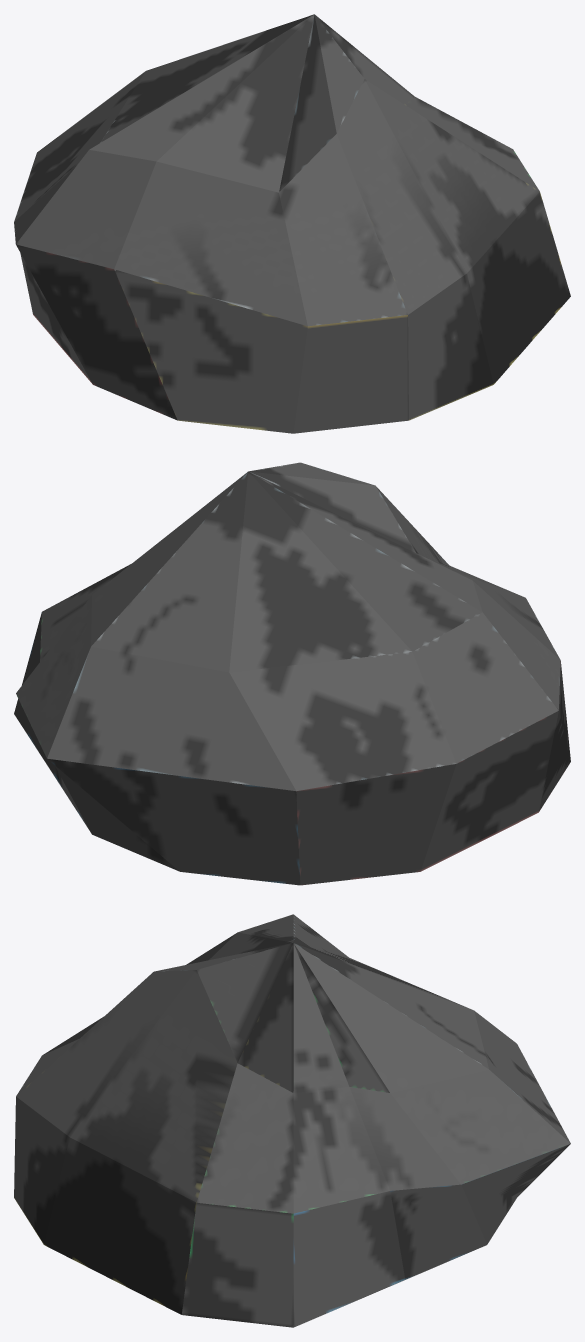
The picture shows the model from 3 angles, top to bottom: view 1: azimuth 30°, elevation 25°; view 2: azimuth 150°, elevation 25°; view 3: azimuth 270°, elevation 25°; orthographic projection. The views are drawn at different scales.
Visible parts, largest first — view 1: sphere; view 2: sphere; view 3: sphere.
Boxes of the visible parts, x1,y1,x2,y2 form: sphere: (14, 14, 570, 433); sphere: (14, 462, 570, 885); sphere: (14, 914, 570, 1327).
Size of the model in its own units: 131 by 68.75 by 125.
1 material, 1 textured.
